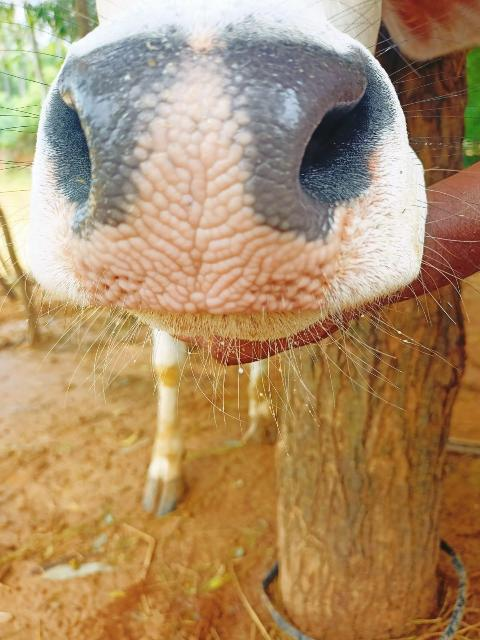Muzzle: (60, 54, 372, 304)
